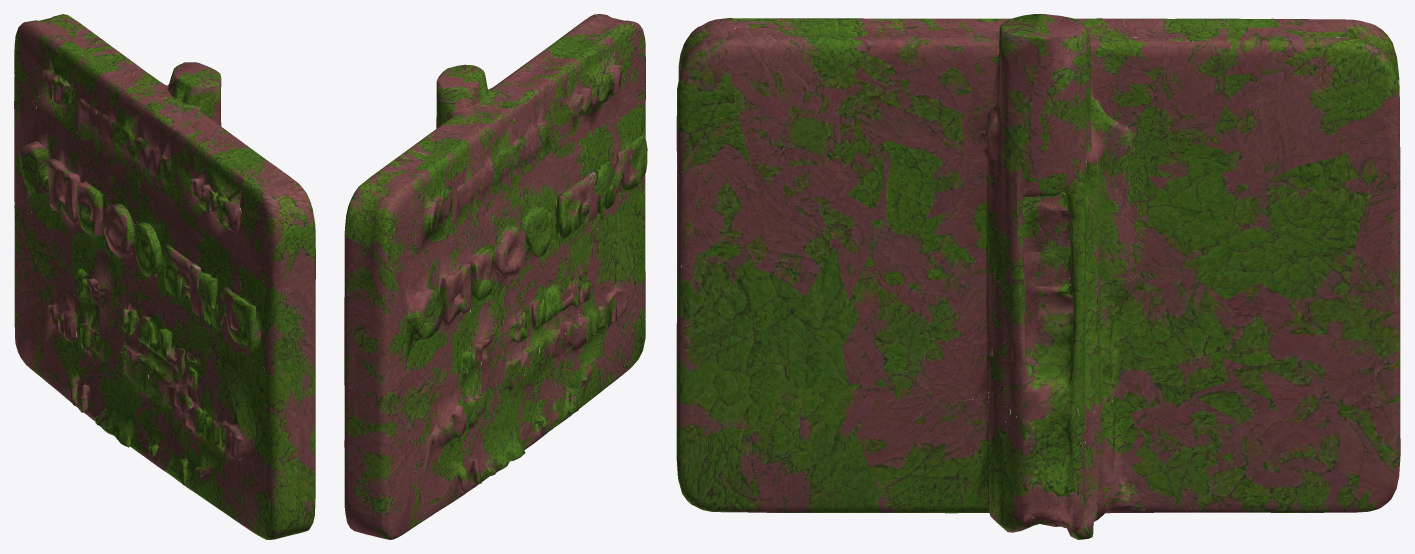
The model's file is cargo_ring_sign_01.glb.
3 views of the same model, side by side, from view 1: azimuth 30°, elevation 25°; view 2: azimuth 150°, elevation 25°; view 3: azimuth 270°, elevation 25° (orthographic). The views are drawn at different scales.
Parts seen in each view (by area): view 1: tripo_node_6f5a5626-a03e-4eec-b667-1d212b267030; view 2: tripo_node_6f5a5626-a03e-4eec-b667-1d212b267030; view 3: tripo_node_6f5a5626-a03e-4eec-b667-1d212b267030.
Part boxes in pixels (x1,y1,x2,y2): tripo_node_6f5a5626-a03e-4eec-b667-1d212b267030: (14,14,315,539); tripo_node_6f5a5626-a03e-4eec-b667-1d212b267030: (344,14,647,539); tripo_node_6f5a5626-a03e-4eec-b667-1d212b267030: (676,14,1400,539).
Size of the model in its own units: 0.1934 by 0.7752 by 1.
1 material, 1 textured.
